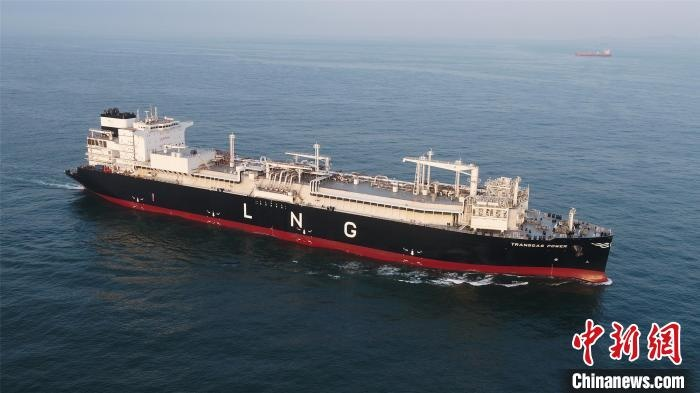Cargoship: (65, 95, 618, 293), (577, 46, 613, 61)
